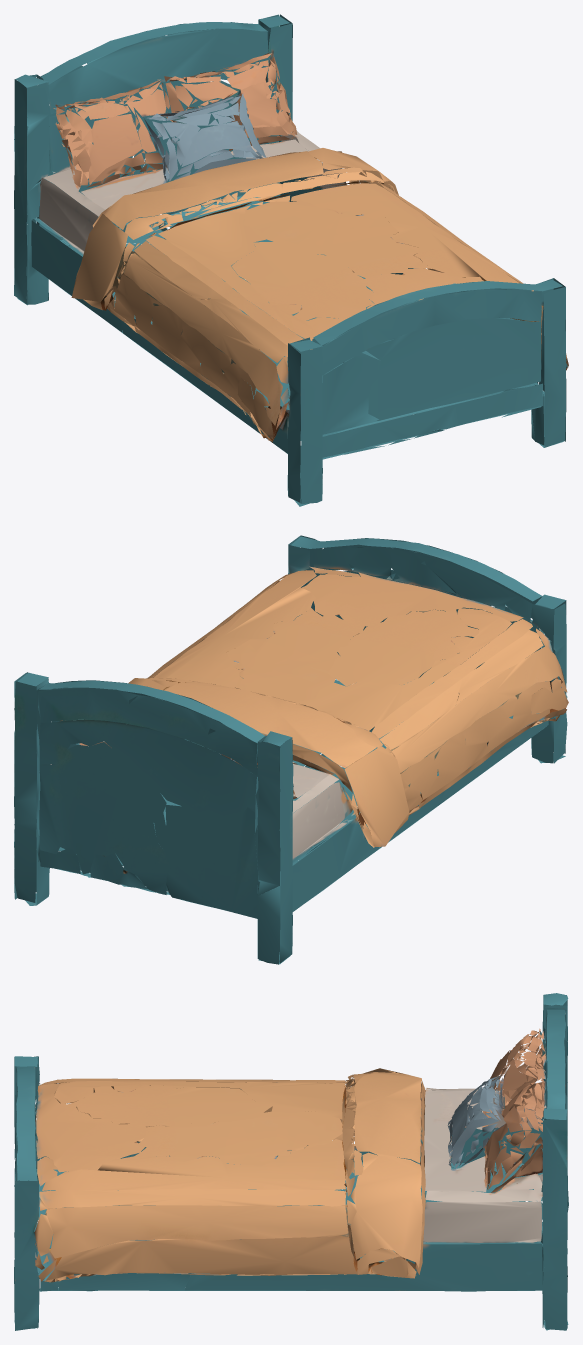
File: PlayerBed.fbx
The picture shows the model from 3 angles, top to bottom: view 1: azimuth 30°, elevation 25°; view 2: azimuth 150°, elevation 25°; view 3: azimuth 270°, elevation 25°; orthographic projection. The views are drawn at different scales.
Visible parts, largest first — view 1: PlayerBed; view 2: PlayerBed; view 3: PlayerBed.
Boxes of the visible parts, x1=… form: PlayerBed: x1=14, y1=14, x2=568, y2=506; PlayerBed: x1=14, y1=535, x2=568, y2=964; PlayerBed: x1=14, y1=993, x2=568, y2=1330.
Size of the model in its own units: 118 by 86.03 by 189.
Materials: 1 (1 with a texture image).
